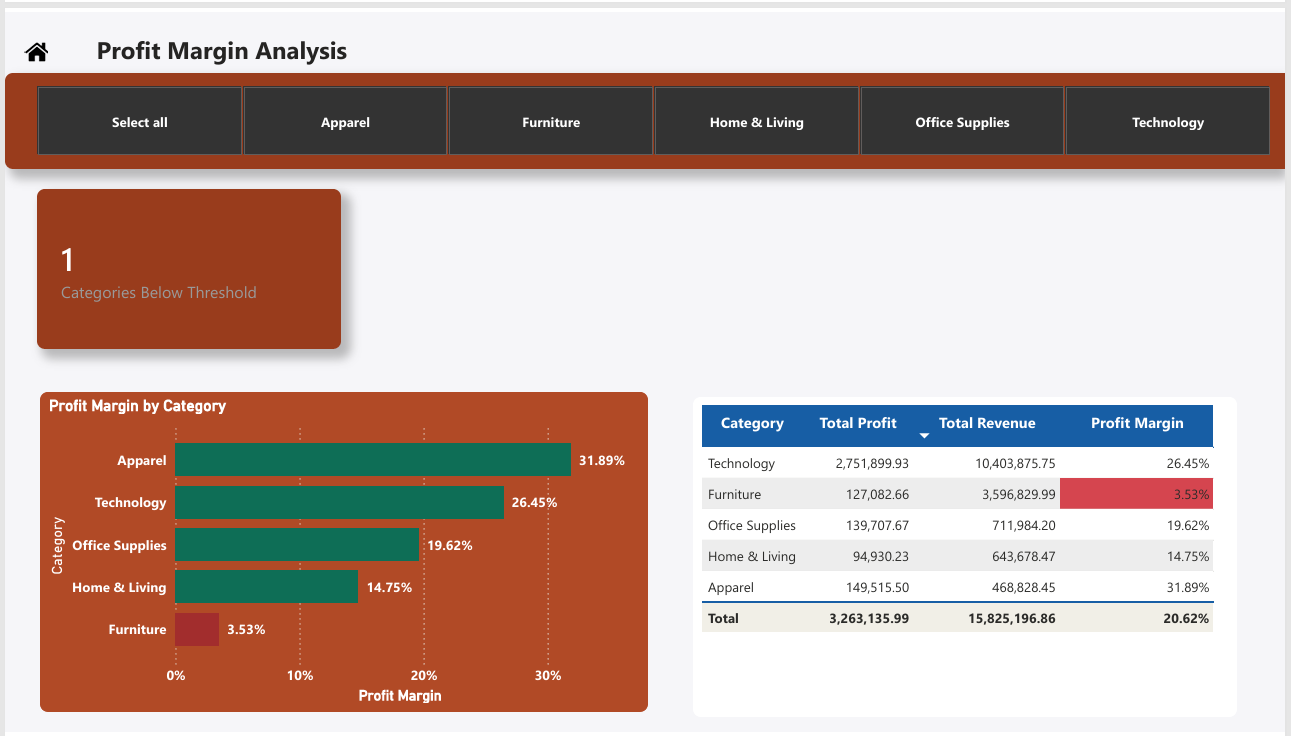

The dashboard page shown, as its layout file describes it:
{"tool":"powerbi","page":{"name":"Profit Margin Analysis","canvas":[1280,720],"ordinal":4},"visuals":[{"type":"image","box":[20,15,24,48],"z":0,"group":"g1"},{"type":"slicer","fields":{"Values":["sales_revenue_dataset.Category"]},"box":[0,60,1296,96],"z":0},{"type":"group","id":"g1","title":"Group 1","box":[20,15,492,72],"z":1000},{"type":"textbox","box":[80,15,432,72],"z":1000,"group":"g1"},{"type":"cardVisual","fields":{"Data":["sales_revenue_dataset.Categories Below Threshold"]},"box":[32,176,304,160],"z":2000},{"type":"tableEx","fields":{"Values":["sales_revenue_dataset.Category","sales_revenue_dataset.Total Profit","sales_revenue_dataset.Total Revenue","sales_revenue_dataset.Profit Margin"]},"box":[688,384,544,320],"z":3000},{"type":"barChart","fields":{"Category":["sales_revenue_dataset.Category"],"Y":["sales_revenue_dataset.Profit Margin"]},"box":[35.3,378.8,608,320],"z":4000}]}

Visuals, with their boxes in screenshot pixels (x1, y1, x2, y2), scaled from the page's 1280x720 canvas onto the 1291x736 screenshot:
image: x1=20 y1=15 x2=44 y2=64
slicer - sales_revenue_dataset.Category: x1=0 y1=61 x2=1290 y2=159
"Group 1" group: x1=20 y1=15 x2=516 y2=89
textbox: x1=81 y1=15 x2=516 y2=89
cardVisual - sales_revenue_dataset.Categories Below Threshold: x1=32 y1=180 x2=339 y2=343
tableEx - sales_revenue_dataset.Category x sales_revenue_dataset.Total Profit: x1=694 y1=393 x2=1243 y2=720
barChart - sales_revenue_dataset.Category x sales_revenue_dataset.Profit Margin: x1=36 y1=387 x2=649 y2=714
